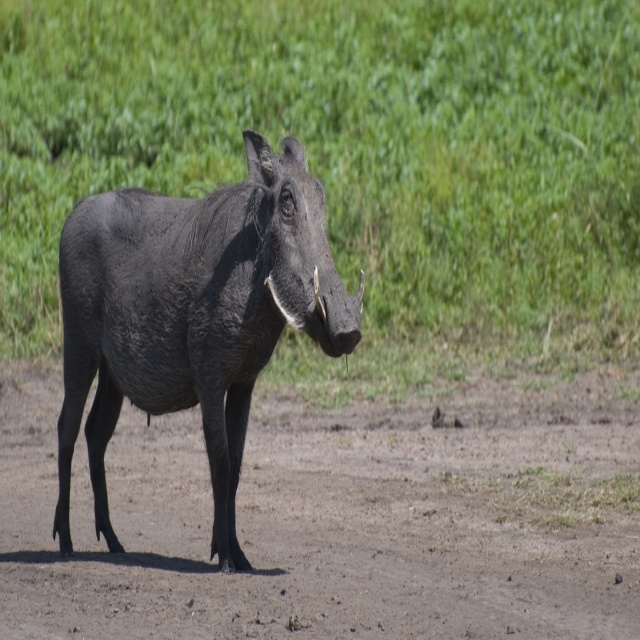Pig: (52, 128, 365, 573)
